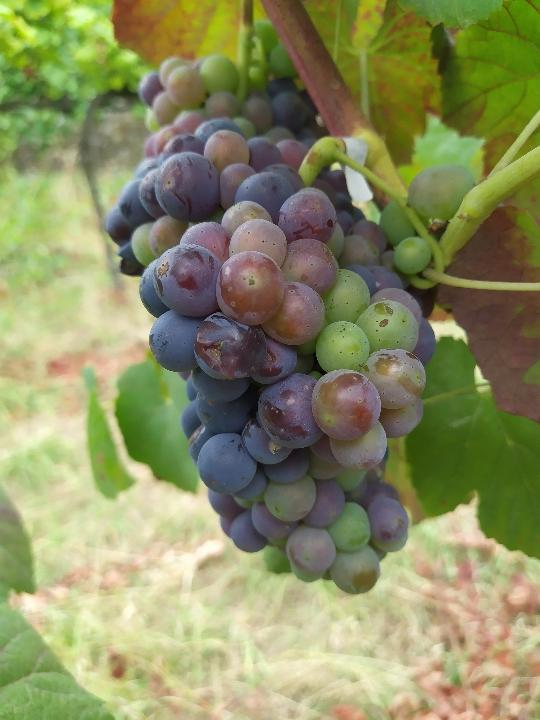grape: (136, 115, 439, 597)
